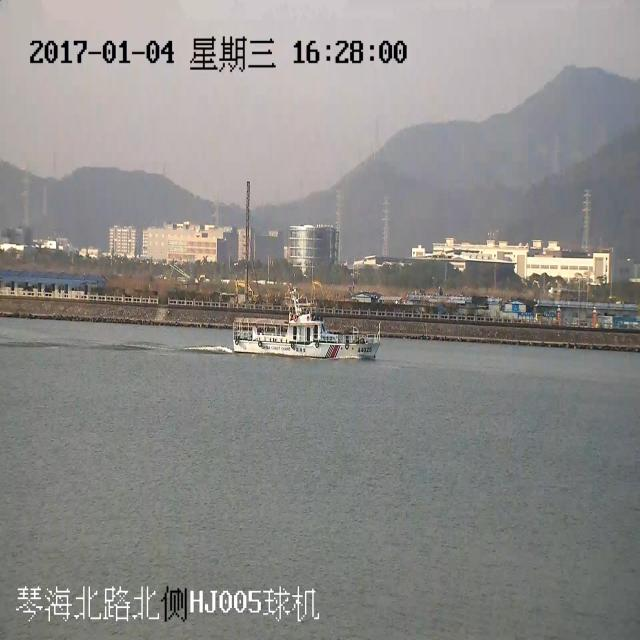houseboat: (224, 292, 386, 375)
